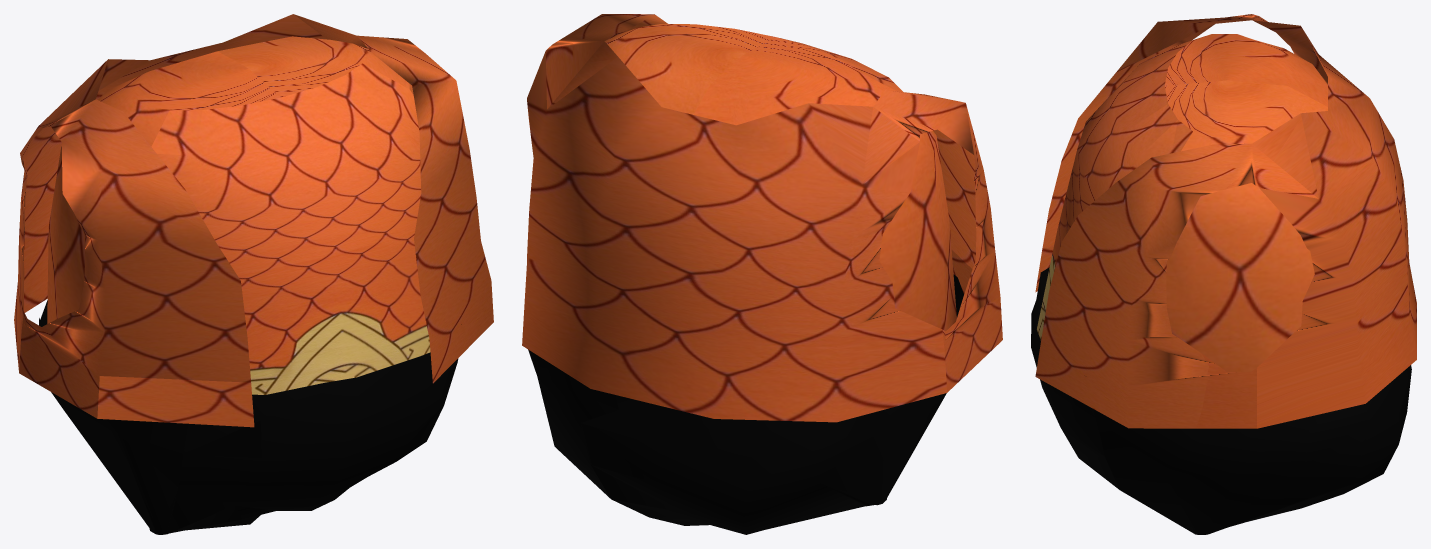
The model's file is torso.obj.
3 views of the same model, side by side, from view 1: azimuth 30°, elevation 25°; view 2: azimuth 150°, elevation 25°; view 3: azimuth 270°, elevation 25° (orthographic). The views are drawn at different scales.
Visible parts, largest first — view 1: torso_Mesh; view 2: torso_Mesh; view 3: torso_Mesh.
Part boxes in pixels (left/top/right/bottom): torso_Mesh: left=14, top=14, right=493, bottom=534; torso_Mesh: left=522, top=14, right=1002, bottom=534; torso_Mesh: left=1031, top=14, right=1416, bottom=534.
Bounding box in the file's own units: 2.41 × 2.47 × 2.03.
3 materials, 3 textured.
